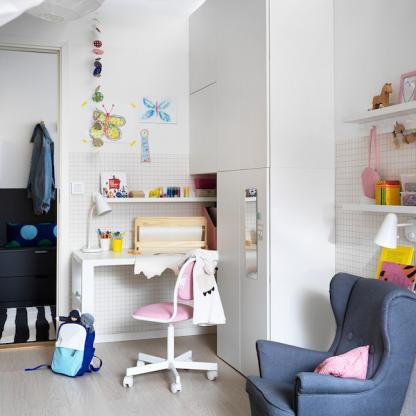chair: (257, 274, 416, 416), (115, 248, 233, 400)
light: (373, 209, 416, 258)
table: (63, 245, 230, 360)
